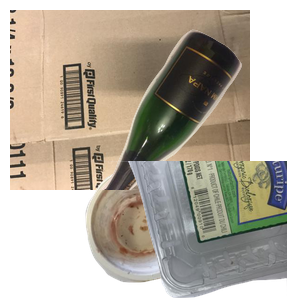cardboard: (10, 10, 250, 190)
glass: (87, 27, 300, 207)
plastic: (60, 161, 300, 300)
trash: (83, 163, 276, 300)
